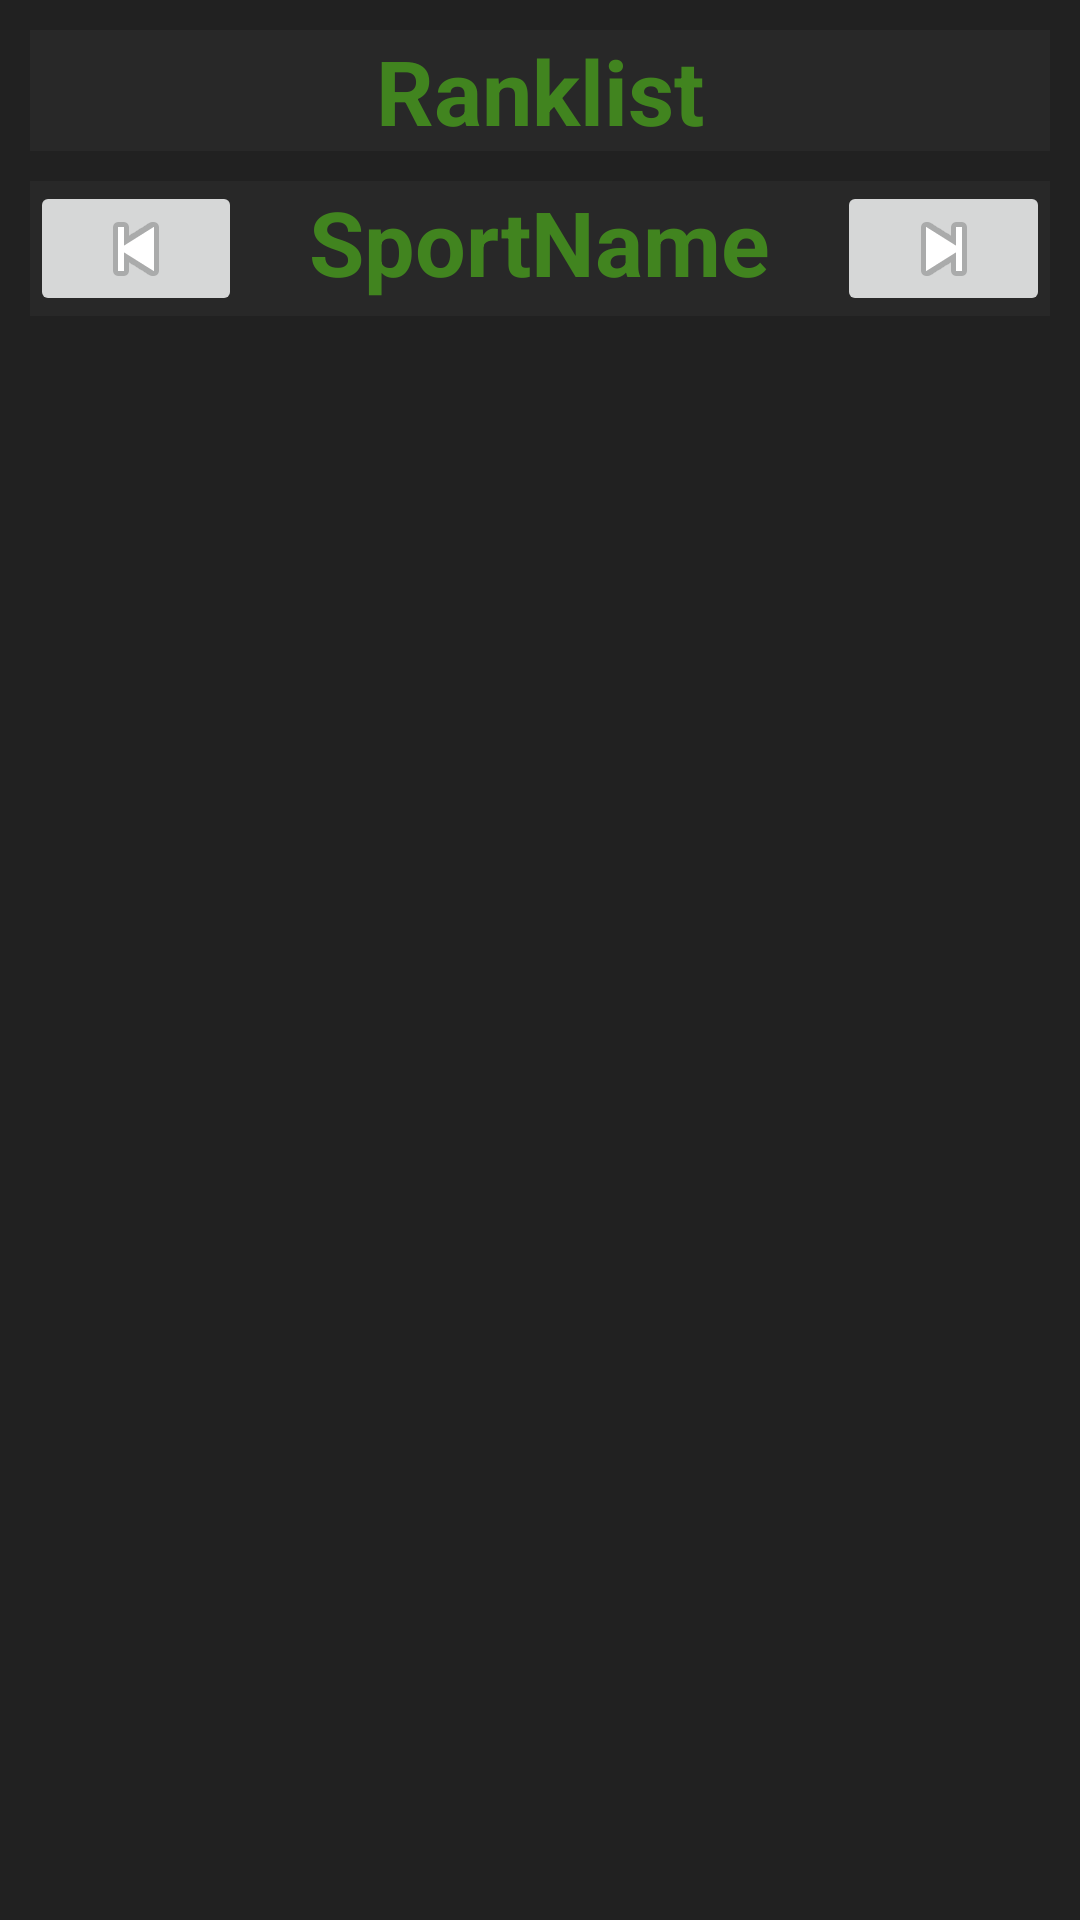

Icon click points for this 1080px x 1920px phone screenshot, format point (x, y):
next: point (943, 248)
previous: point (136, 248)
